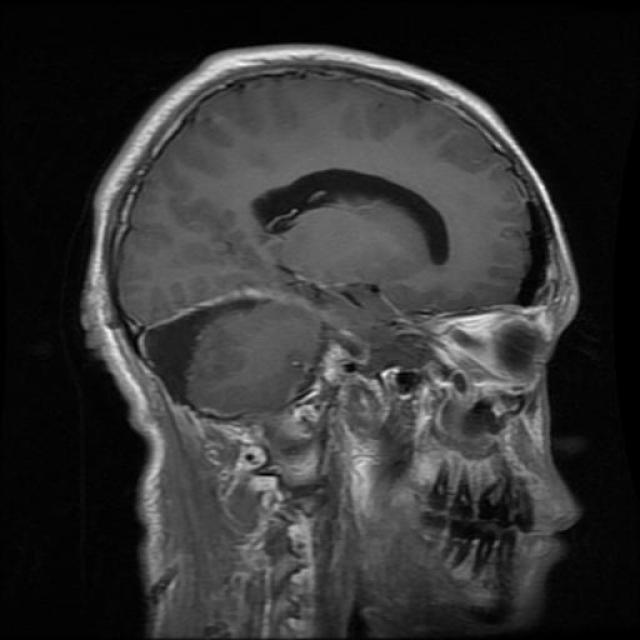Brain-Tumor: (241, 157, 471, 296)
eye: (422, 304, 566, 394)
